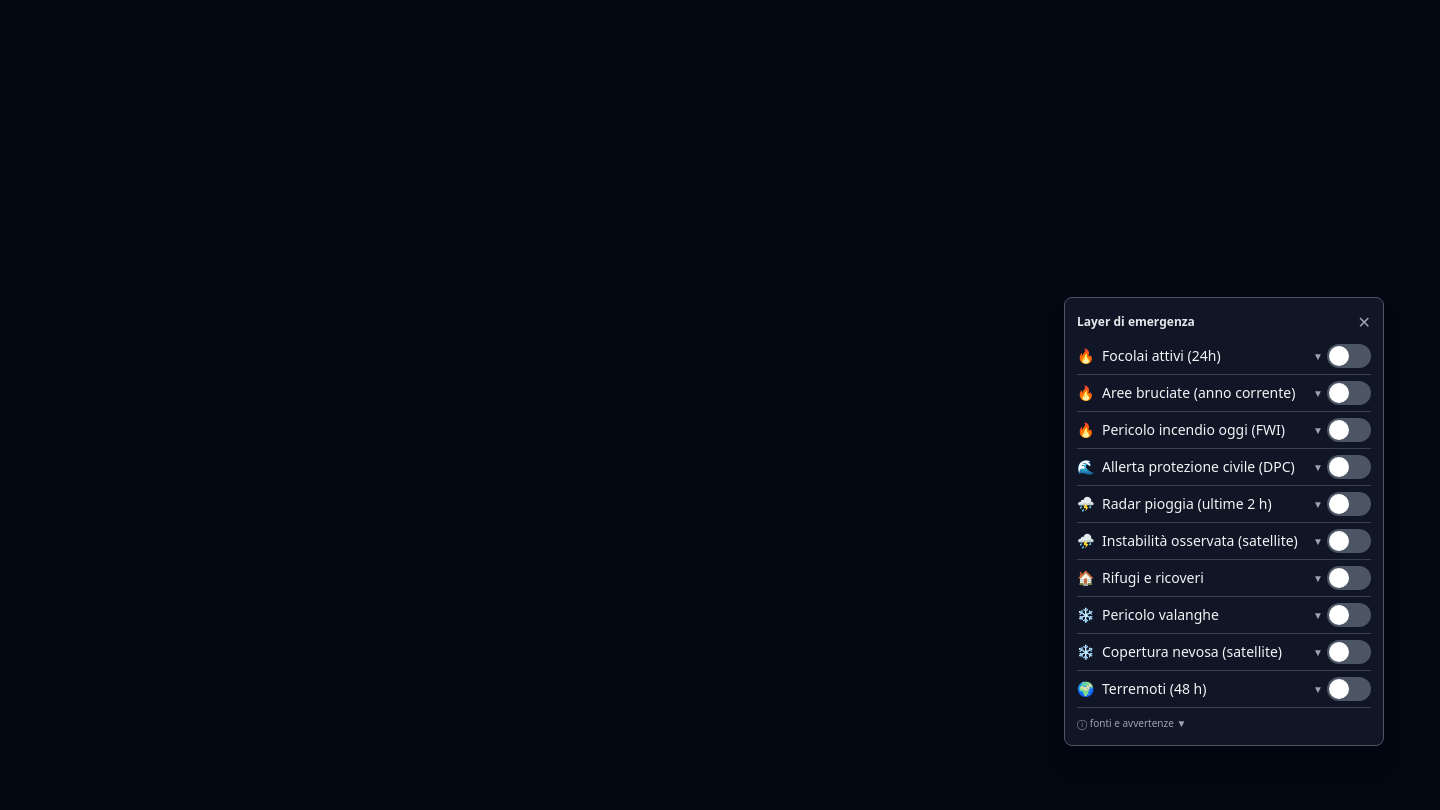
Test: pannello layer compatto › accendere espande la riga, spegnere la richiude
Click the switch named "Focolai attivi (24h)" at (1349, 356), box [1327, 344, 1371, 368]
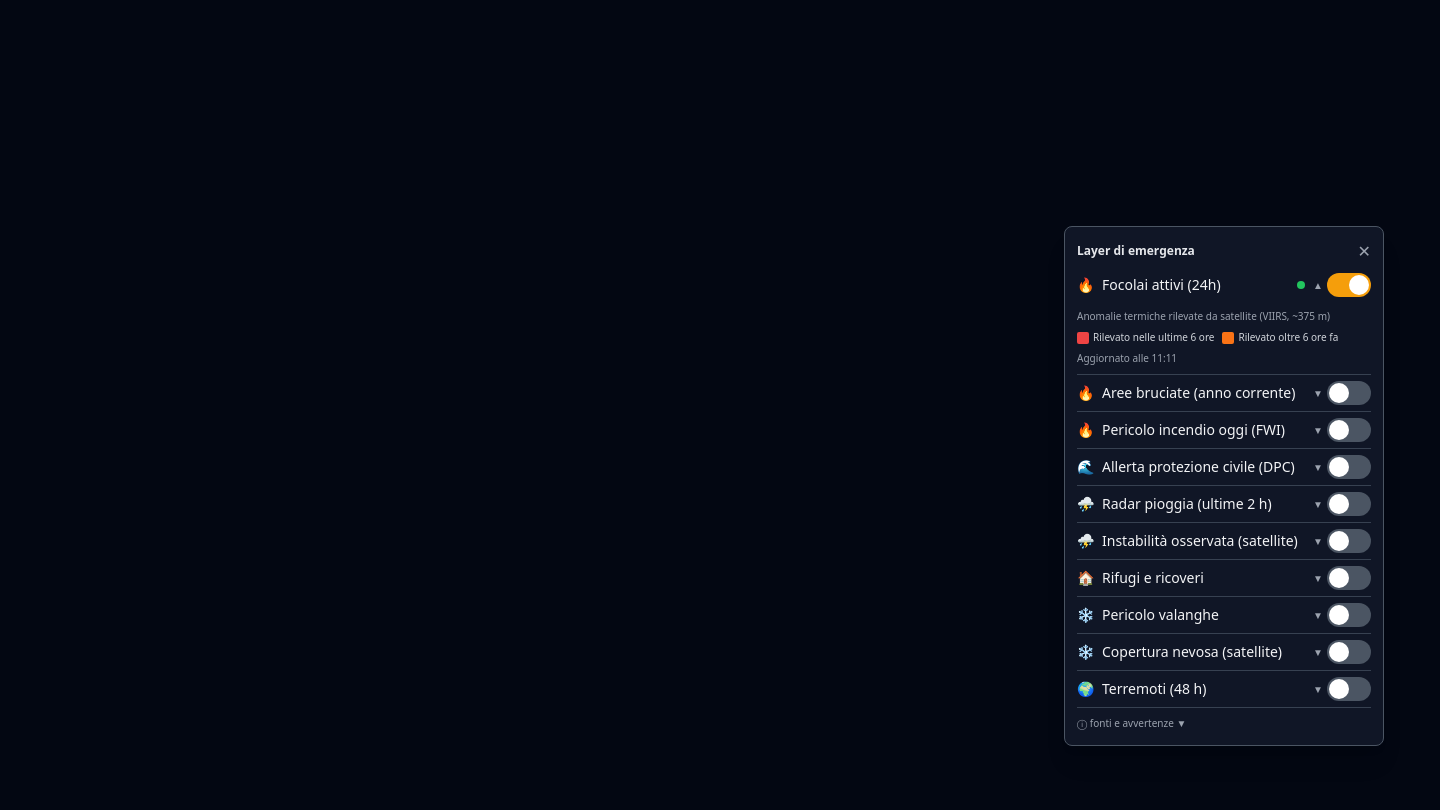
Expected: the button "🔥 Focolai attivi (24h) ▲" is expanded, [1077, 267, 1323, 303]
Click the switch named "Focolai attivi (24h)" at (1349, 285), box [1327, 273, 1371, 297]
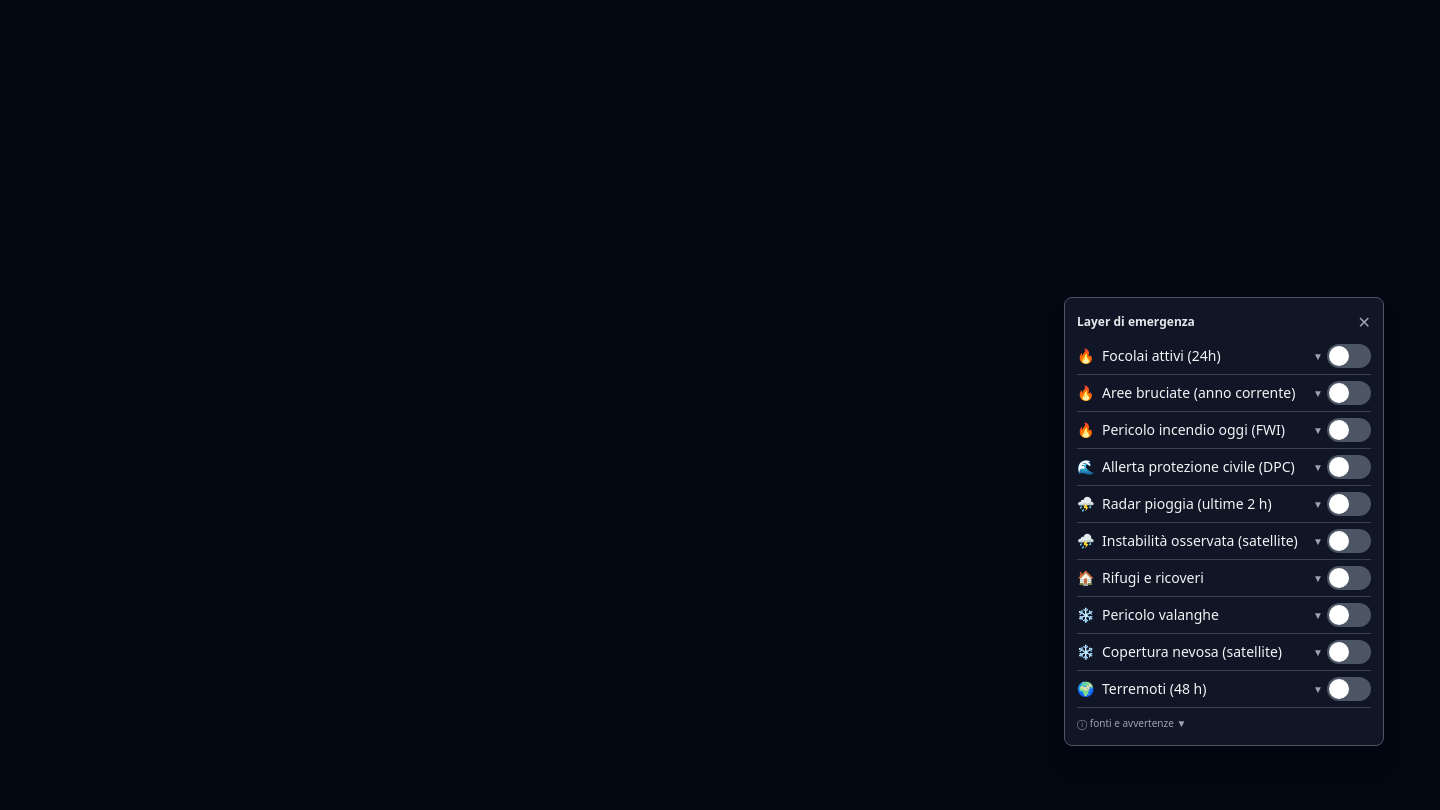
Expected: the button "🔥 Focolai attivi (24h) ▼" is collapsed, [1077, 338, 1323, 374]
